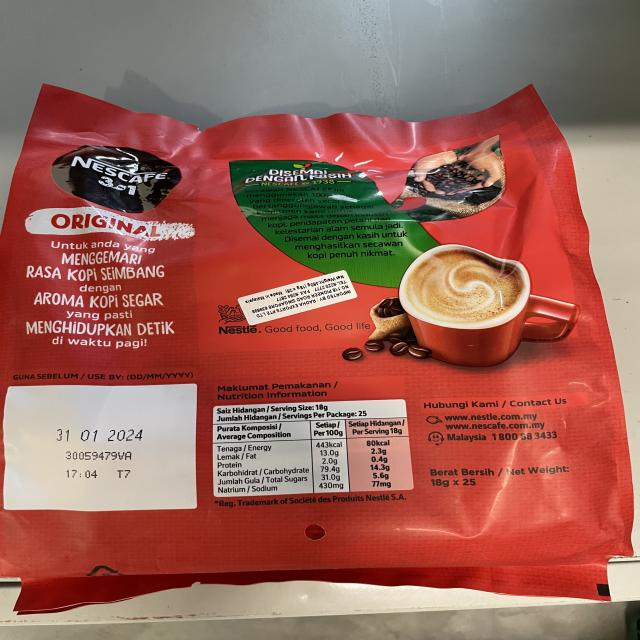object_name: (20, 86, 614, 596)
